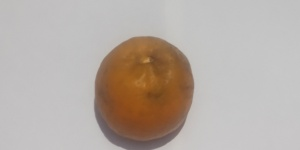BAD: (92, 35, 194, 145)
